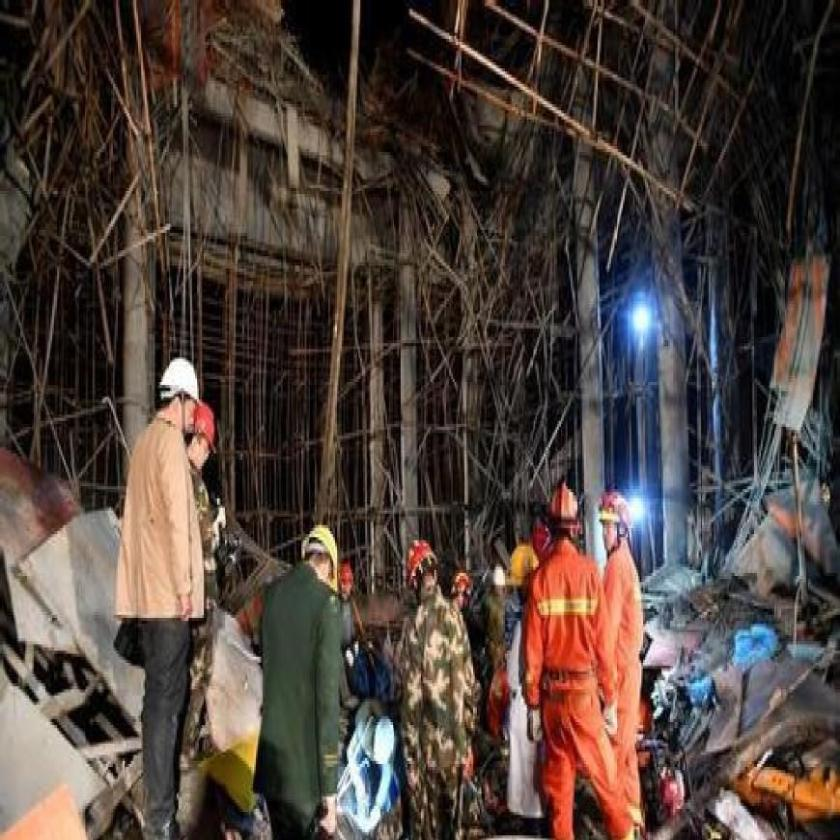Con_casco: (160, 354, 202, 450), (544, 475, 587, 559), (298, 524, 340, 602), (502, 546, 543, 614), (597, 490, 635, 560), (190, 399, 218, 486), (404, 536, 441, 598), (451, 568, 474, 624), (339, 562, 355, 604)
